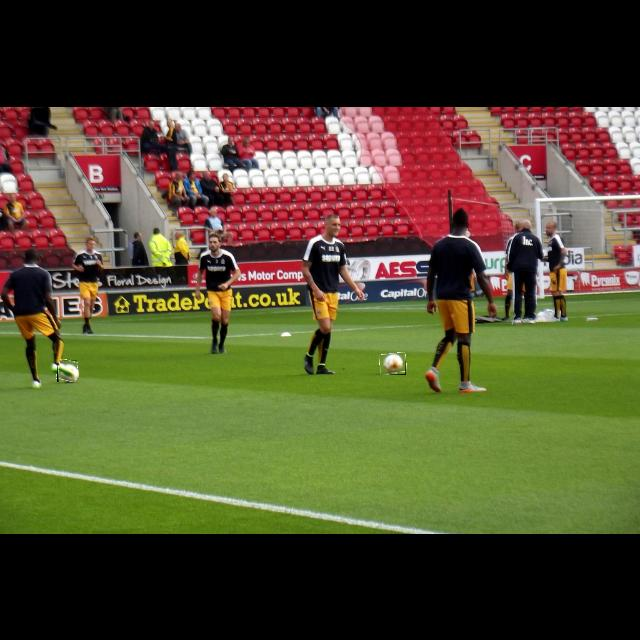Football: (380, 353, 406, 375), (57, 360, 77, 382)
